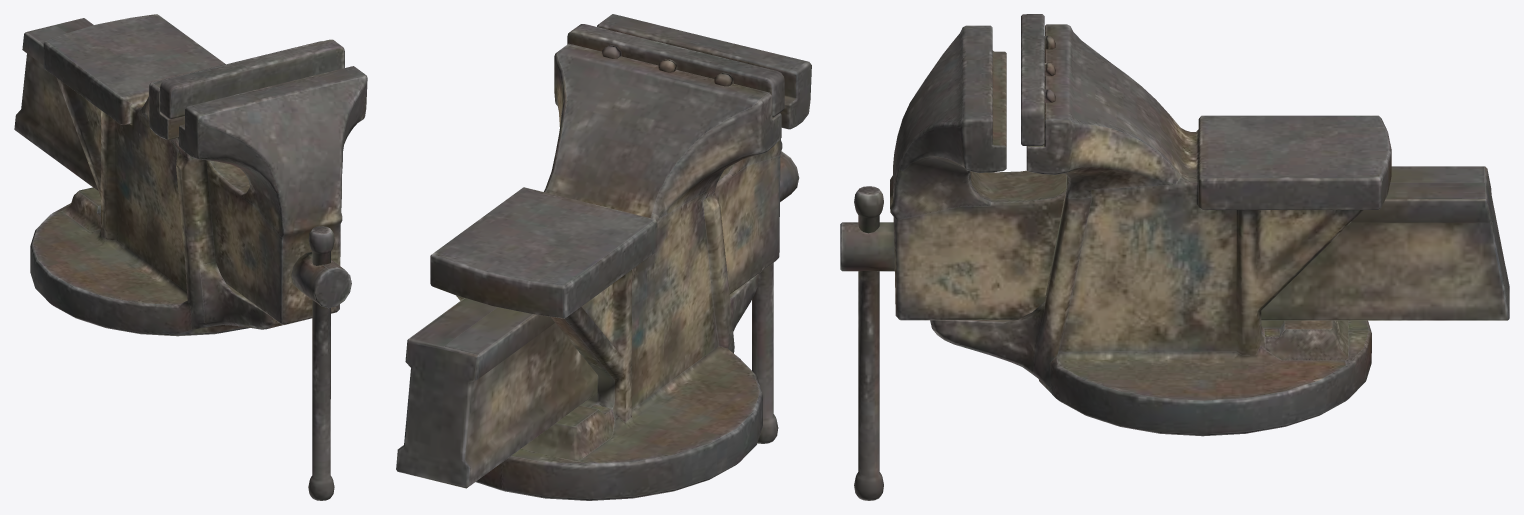
Rendered from bench_vice_01.glb.
The picture shows the model from 3 angles, left to right: view 1: azimuth 30°, elevation 25°; view 2: azimuth 150°, elevation 25°; view 3: azimuth 270°, elevation 25°; orthographic projection. The views are drawn at different scales.
Parts seen in each view (by area): view 1: bench_vice_frame, bench_vice_clamp, bench_vice_bar, bench_vice_dial; view 2: bench_vice_frame, bench_vice_clamp, bench_vice_bar, bench_vice_dial; view 3: bench_vice_frame, bench_vice_clamp, bench_vice_bar, bench_vice_dial.
Part boxes in pixels (<box>): bench_vice_frame: <box>30,14,344,336</box>; bench_vice_clamp: <box>14,18,367,324</box>; bench_vice_bar: <box>308,226,334,500</box>; bench_vice_dial: <box>291,252,351,308</box>; bench_vice_frame: <box>430,24,784,500</box>; bench_vice_clamp: <box>396,14,811,488</box>; bench_vice_bar: <box>752,263,778,443</box>; bench_vice_dial: <box>780,151,799,201</box>; bench_vice_frame: <box>930,14,1391,436</box>; bench_vice_clamp: <box>890,25,1509,320</box>; bench_vice_bar: <box>854,186,883,500</box>; bench_vice_dial: <box>840,222,894,271</box>.
Bounding box in the file's own units: 0.2005 × 0.2851 × 0.3957.
1 material, 1 textured.
